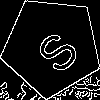S: (27, 21, 82, 77)
